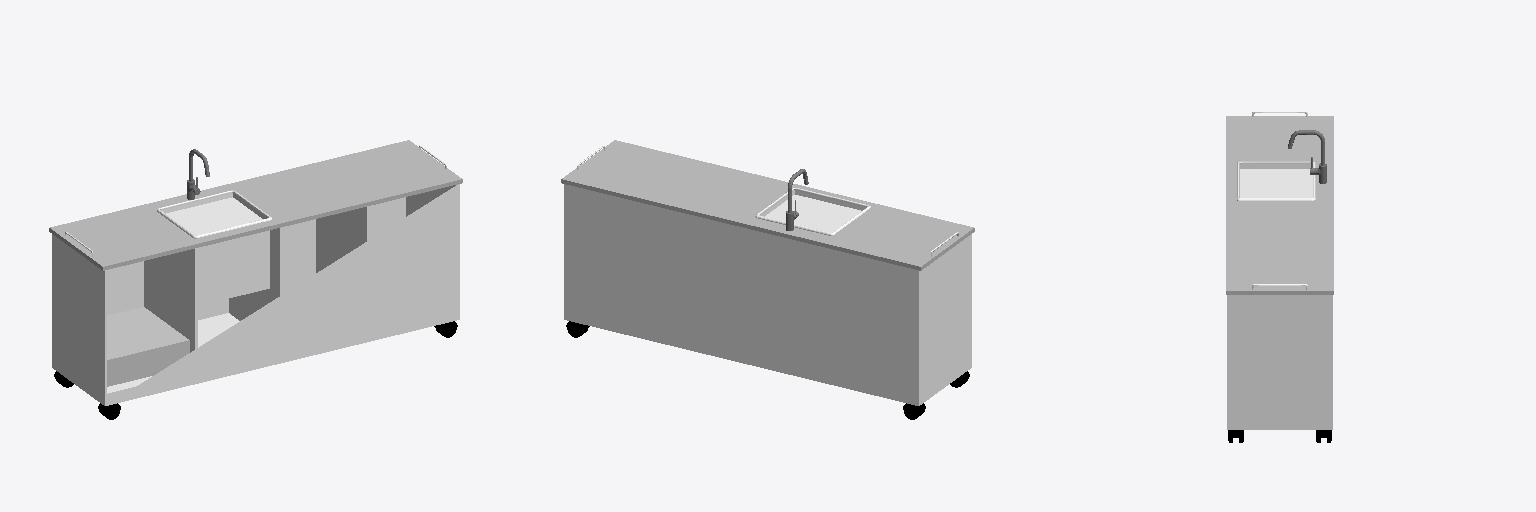
The model's file is kitchen_only_kitchen.obj.
3 renders of one model, left to right at view 1: azimuth 30°, elevation 25°; view 2: azimuth 150°, elevation 25°; view 3: azimuth 270°, elevation 25°, orthographic.
Visible parts, largest first — view 1: default; view 2: default; view 3: default.
Part boxes in pixels (bbox=[...]): default: bbox=[49, 140, 462, 419]; default: bbox=[561, 140, 974, 419]; default: bbox=[1226, 112, 1333, 442].
Bounding box in the file's own units: 0.0246 × 0.0137 × 0.0063.